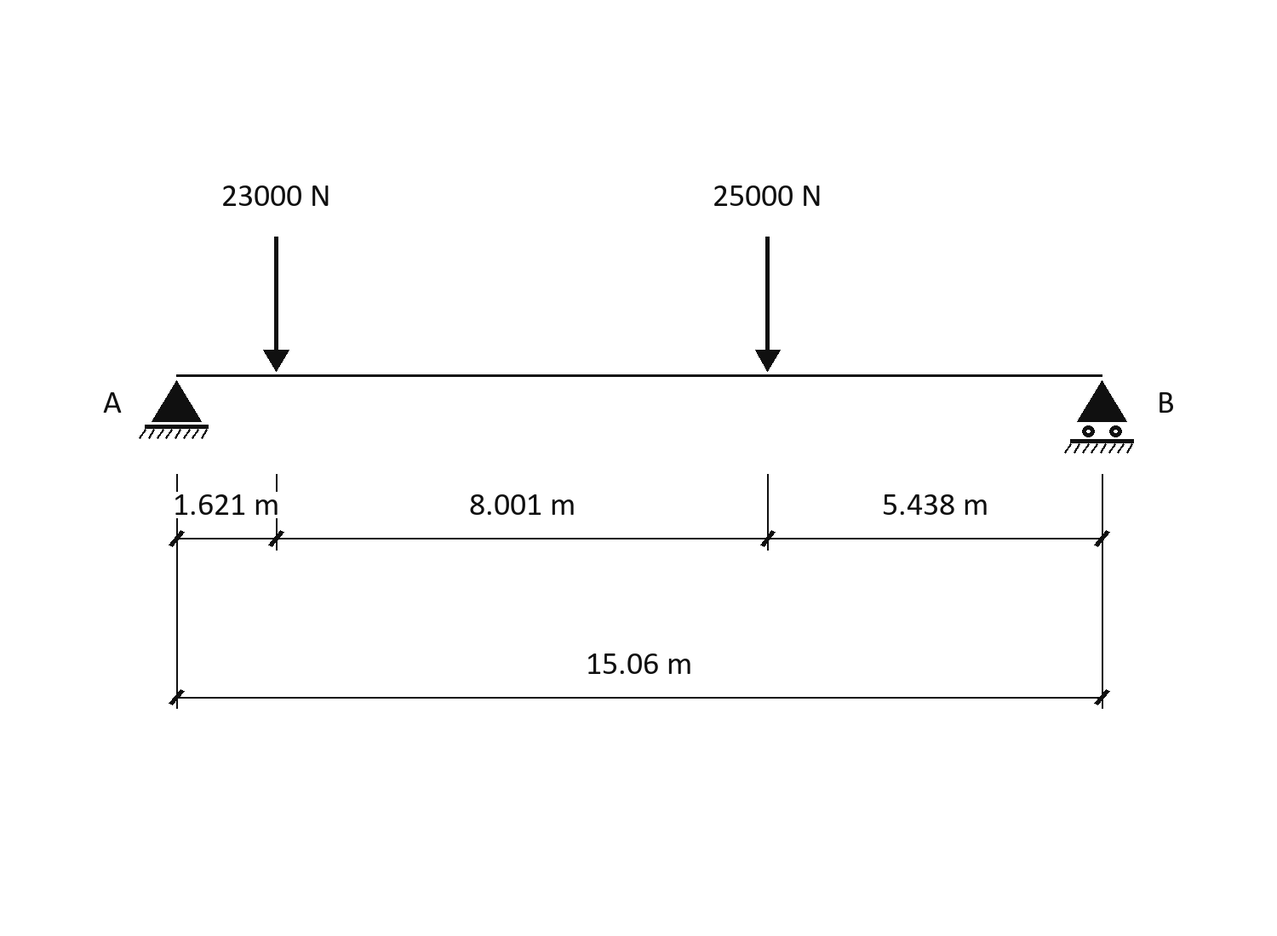pin_support: (139, 380, 209, 439)
point_load: (263, 237, 289, 372), (755, 237, 781, 372)
roller_support: (1064, 380, 1134, 454)
